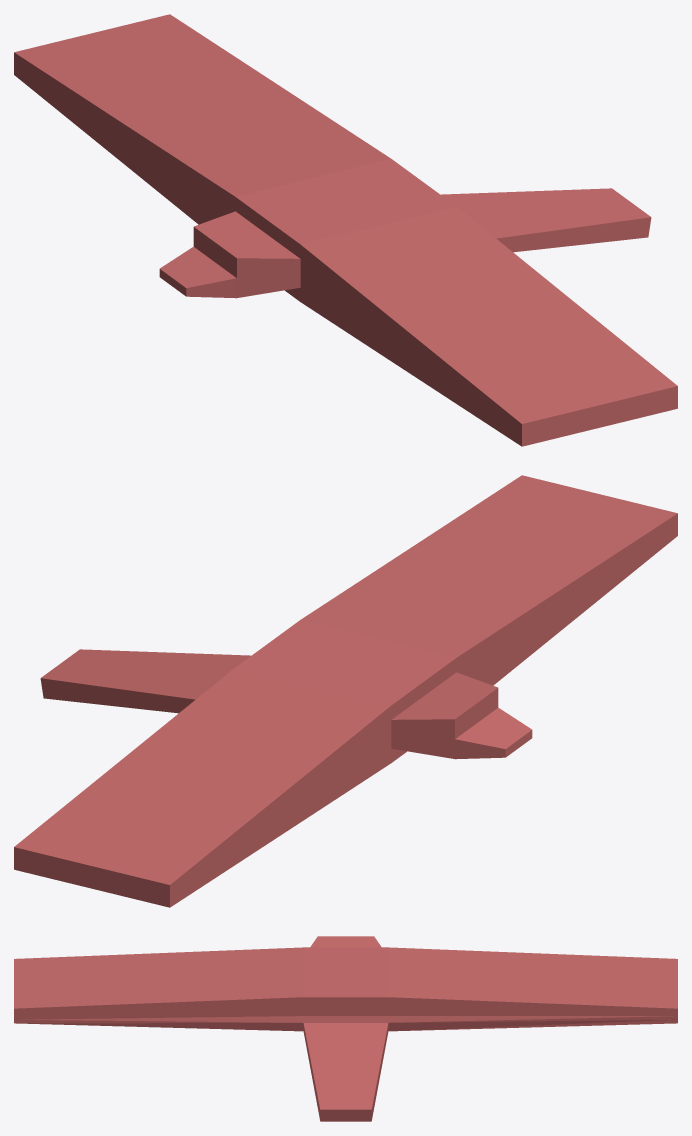
The model's file is BIRD.fbx.
The picture shows the model from 3 angles, top to bottom: view 1: azimuth 30°, elevation 25°; view 2: azimuth 150°, elevation 25°; view 3: azimuth 270°, elevation 25°; orthographic projection. The views are drawn at different scales.
Parts seen in each view (by area): view 1: pCube1; view 2: pCube1; view 3: pCube1.
Boxes of the visible parts, <box> form: pCube1: <box>14,14,677,446</box>; pCube1: <box>14,475,677,907</box>; pCube1: <box>14,936,677,1121</box>.
Size of the model in its own units: 13.04 by 2.45 by 25.
